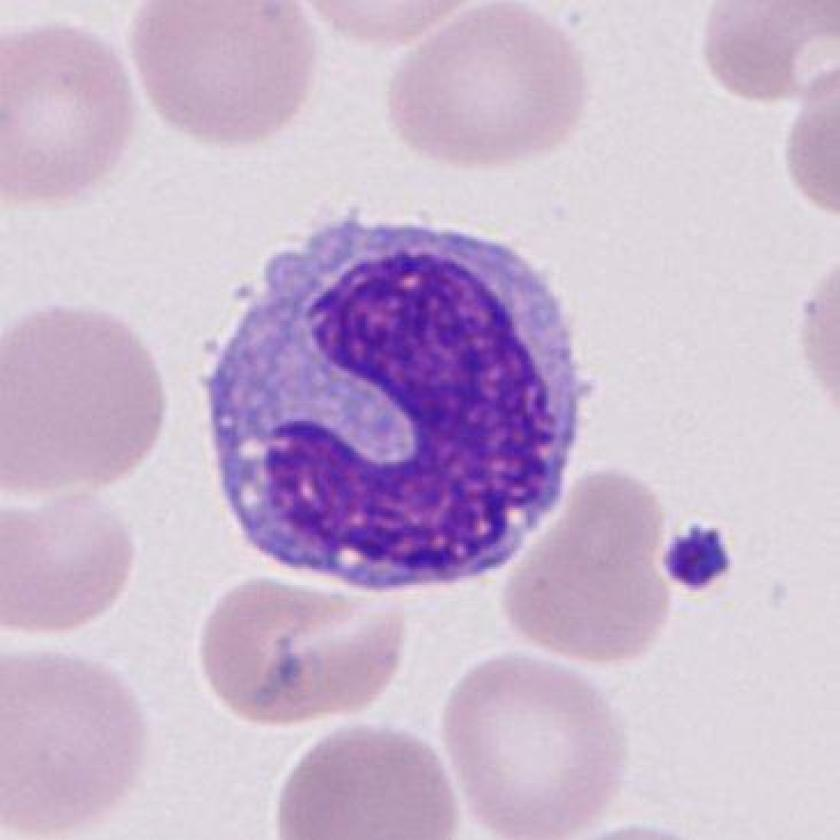monocyte: (189, 199, 612, 597)
